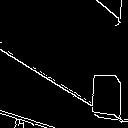cube: (87, 64, 125, 122)
